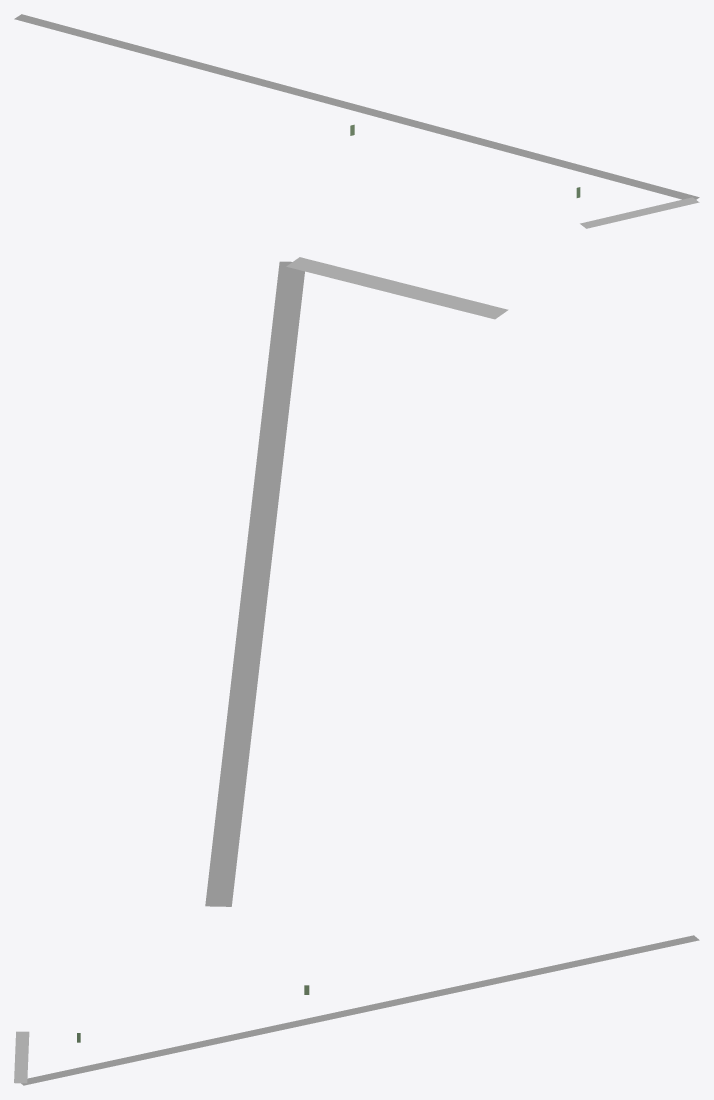
3 renders of one model, top to bottom at view 1: azimuth 30°, elevation 25°; view 2: azimuth 150°, elevation 25°; view 3: azimuth 270°, elevation 25°, orthographic. The views are drawn at different scales.
Bounding box in the file's own units: 189 × 6.85 × 361.
